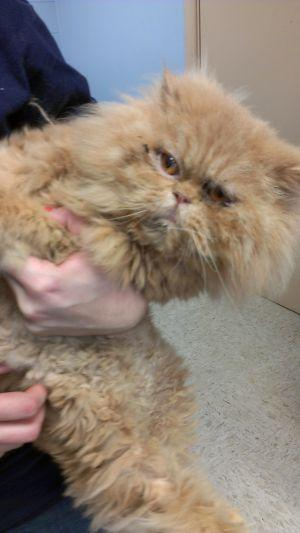persian: (105, 67, 300, 308)
